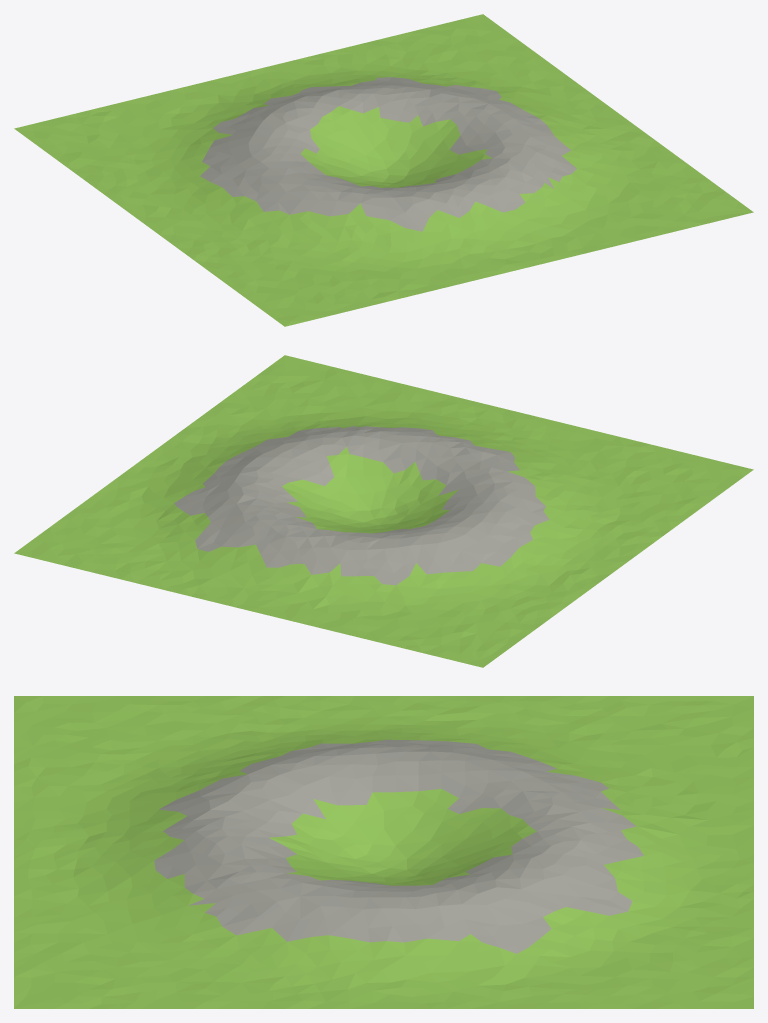
Rendered from terrain_l_c_13.glb.
3 renders of one model, top to bottom at view 1: azimuth 30°, elevation 25°; view 2: azimuth 150°, elevation 25°; view 3: azimuth 270°, elevation 25°, orthographic. The views are drawn at different scales.
Visible parts, largest first — view 1: CPT_Terrain_L_c_13; view 2: CPT_Terrain_L_c_13; view 3: CPT_Terrain_L_c_13.
Boxes of the visible parts, x1,y1,x2,y2 form: CPT_Terrain_L_c_13: (14,14,753,326); CPT_Terrain_L_c_13: (14,355,753,667); CPT_Terrain_L_c_13: (14,696,753,1008).
Bounding box in the file's own units: 100 × 6.31 × 100.
1 material, 1 textured.
